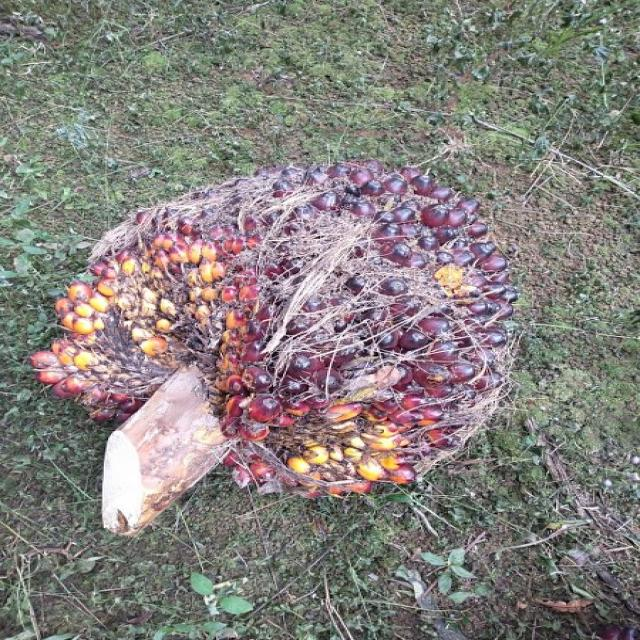fraksi 1: (0, 110, 577, 552)
